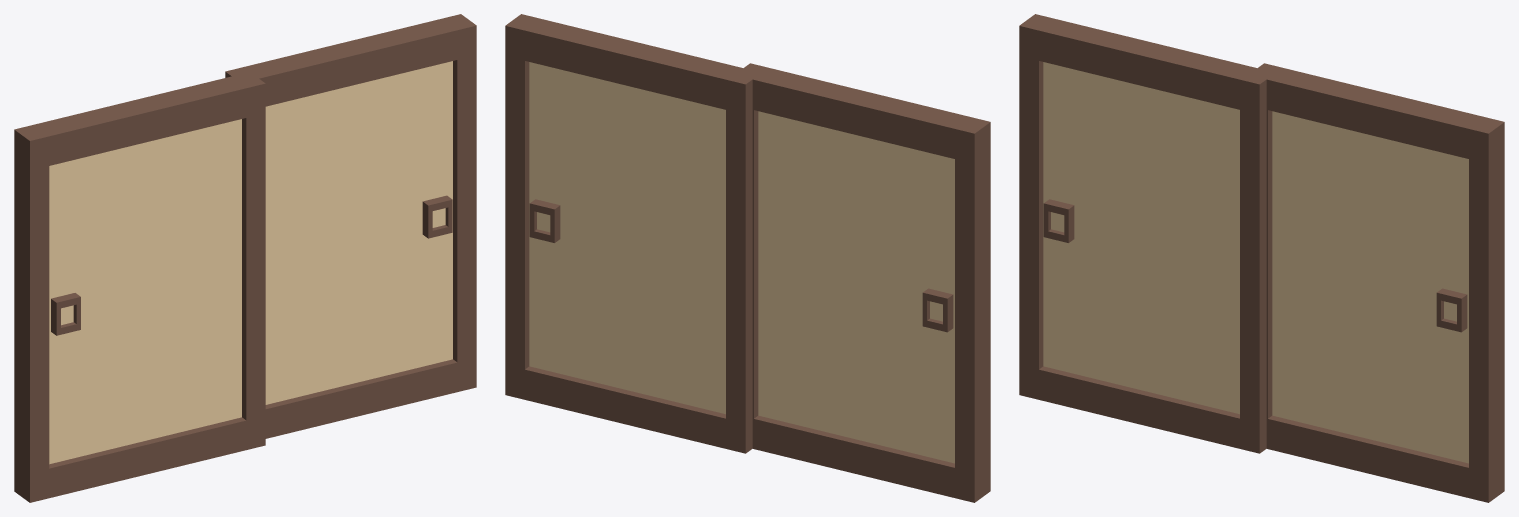
The model's file is Pintu V2.fbx.
3 views of the same model, side by side, from view 1: azimuth 30°, elevation 25°; view 2: azimuth 150°, elevation 25°; view 3: azimuth 330°, elevation 25° (orthographic). The views are drawn at different scales.
Parts seen in each view (by area): view 1: Pintu V2; view 2: Pintu V2; view 3: Pintu V2.
Part boxes in pixels (box(x1,y1,x2,y2)): Pintu V2: box(14, 14, 476, 502); Pintu V2: box(505, 14, 990, 502); Pintu V2: box(1019, 14, 1504, 502).
Bounding box in the file's own units: 262 × 200 × 24.94.
